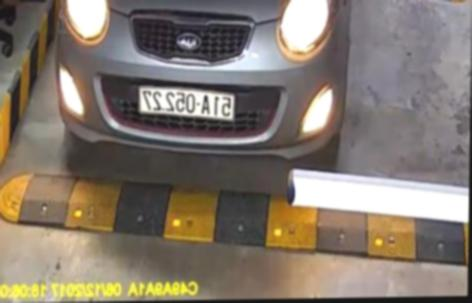License_Plate: (136, 83, 238, 131)
